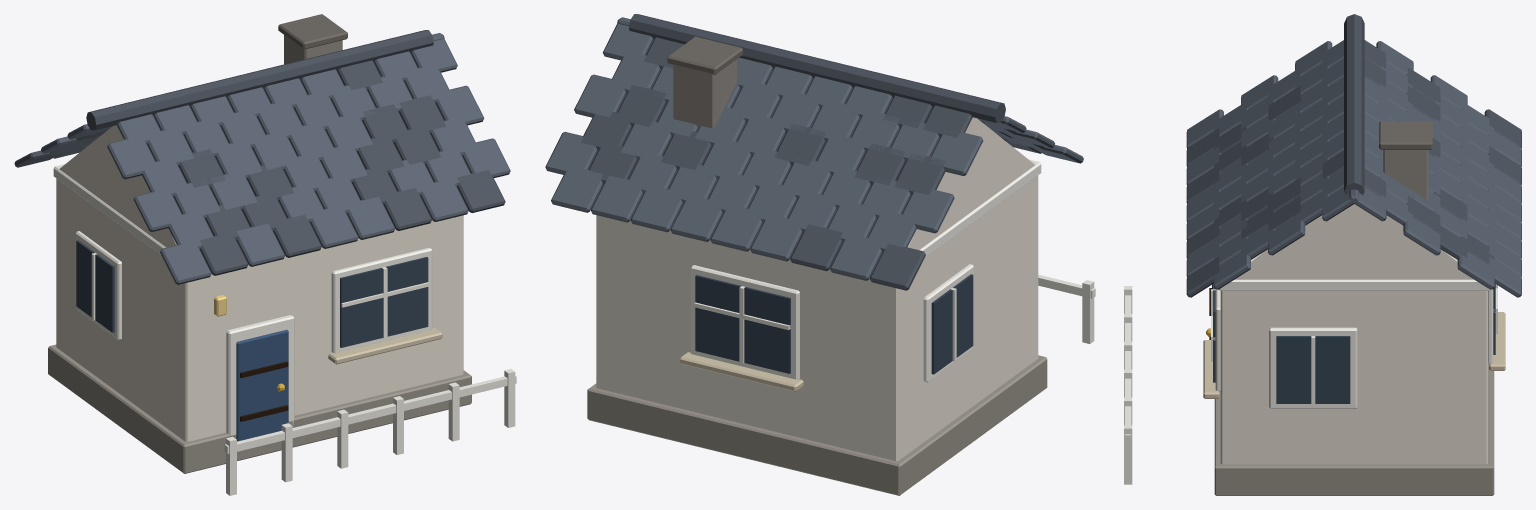
Rendered from house_2014.glb.
3 views of the same model, side by side, from view 1: azimuth 30°, elevation 25°; view 2: azimuth 150°, elevation 25°; view 3: azimuth 270°, elevation 25° (orthographic). The views are drawn at different scales.
Visible parts, largest first — view 1: house_2014; view 2: house_2014; view 3: house_2014.
Part boxes in pixels (x1=…): house_2014: x1=14, y1=14, x2=516, y2=495; house_2014: x1=545, y1=14, x2=1095, y2=495; house_2014: x1=1124, y1=14, x2=1521, y2=495.
Bounding box in the file's own units: 2.02 × 1.78 × 1.93.
